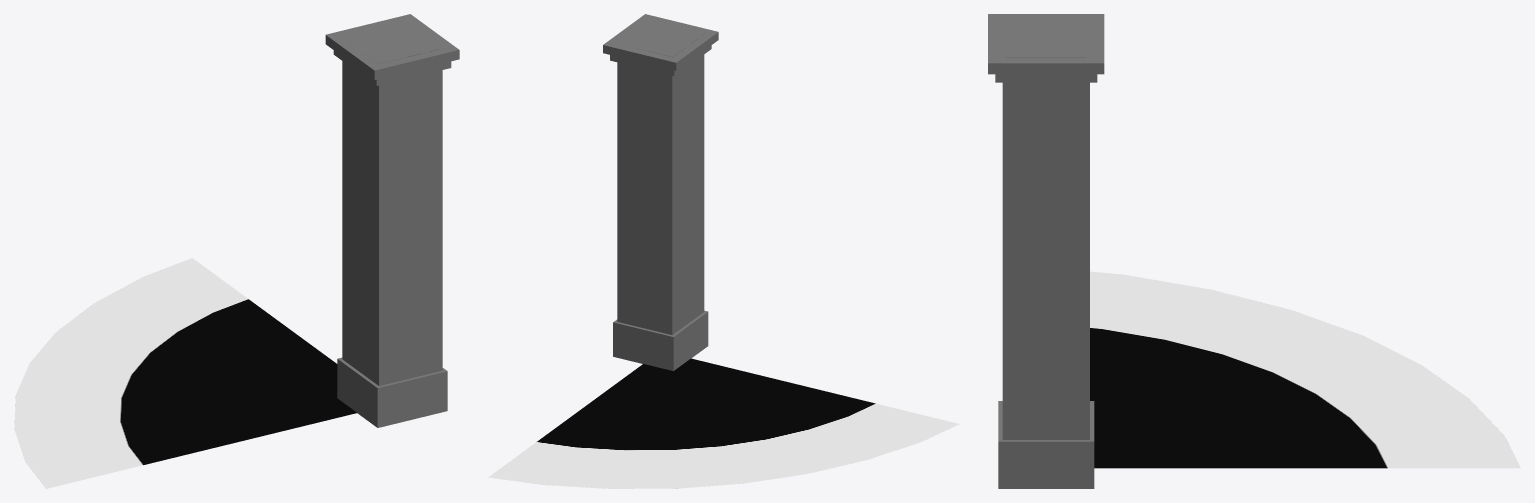
Rendered from S_PillarBasic.fbx.
3 views of the same model, side by side, from view 1: azimuth 30°, elevation 25°; view 2: azimuth 150°, elevation 25°; view 3: azimuth 270°, elevation 25° (orthographic). The views are drawn at different scales.
Visible parts, largest first — view 1: S_PillarBasic; view 2: S_PillarBasic; view 3: S_PillarBasic.
Boxes of the visible parts, box(x1,y1,x2,y2) form: S_PillarBasic: box(14, 14, 459, 488); S_PillarBasic: box(488, 14, 959, 488); S_PillarBasic: box(988, 14, 1520, 488).
Size of the model in its own units: 88.39 by 78.78 by 88.39.
